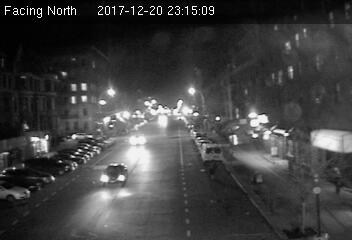car: (99, 161, 128, 187), (128, 133, 147, 146)
truck: (202, 143, 222, 163)
